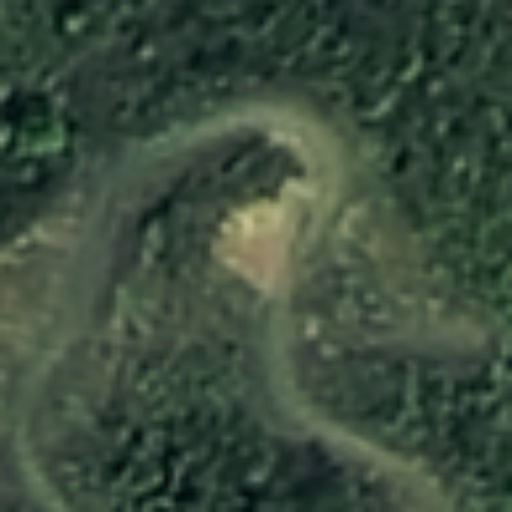landslide: (211, 177, 315, 296)
